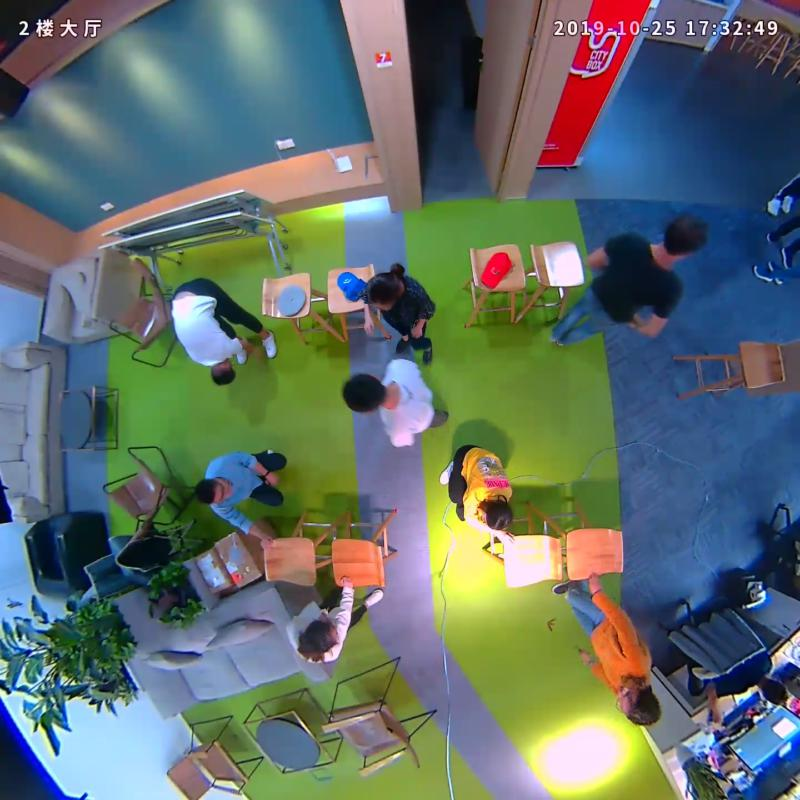head: (651, 210, 711, 265), (335, 369, 399, 417), (611, 679, 666, 731), (295, 611, 345, 660), (360, 267, 406, 313), (475, 491, 519, 536), (184, 472, 232, 507), (204, 359, 243, 389)
